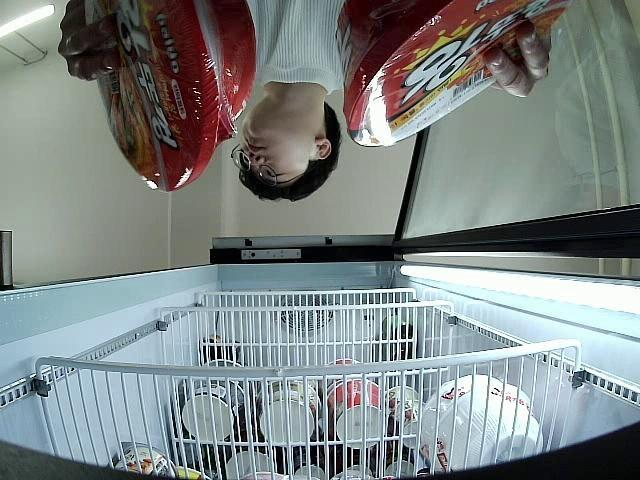10_wangTtukkeong: (335, 0, 564, 147), (95, 0, 256, 193)
